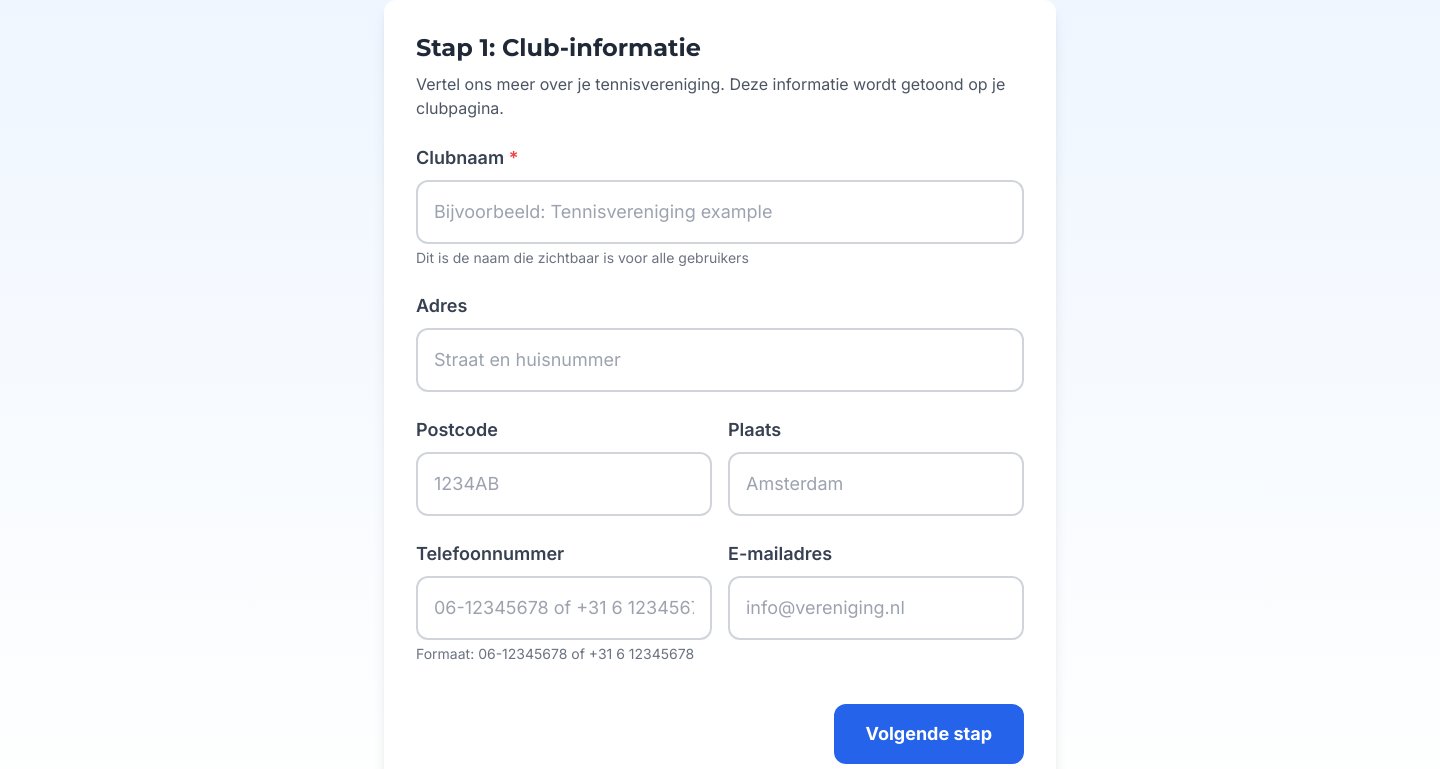
Scenario: ClubStep › Zod validation › should show error for invalid postal code format
Type "123AB" into the field labelled "Postcode".
click(564, 484); type("123AB")  # box [416,452,712,516]
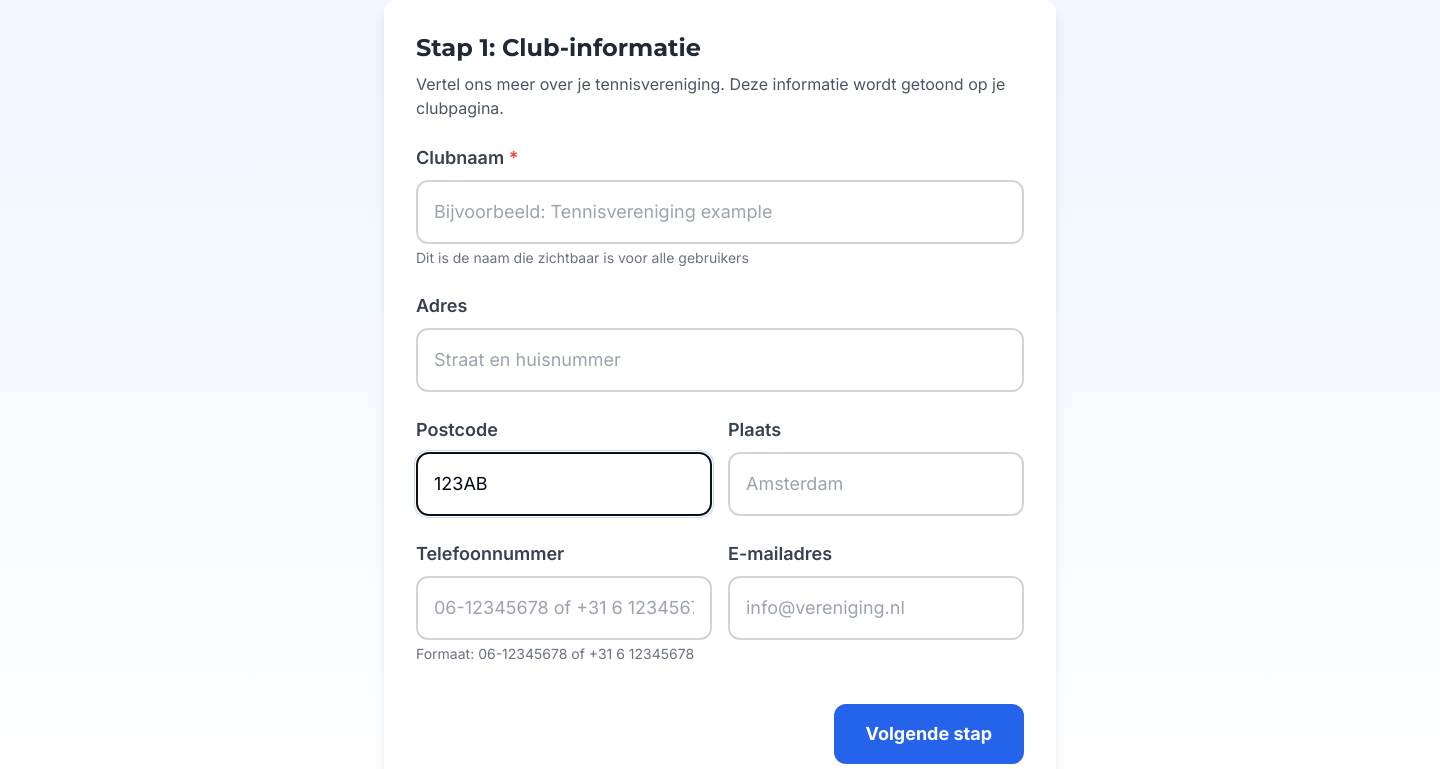
Press Tab
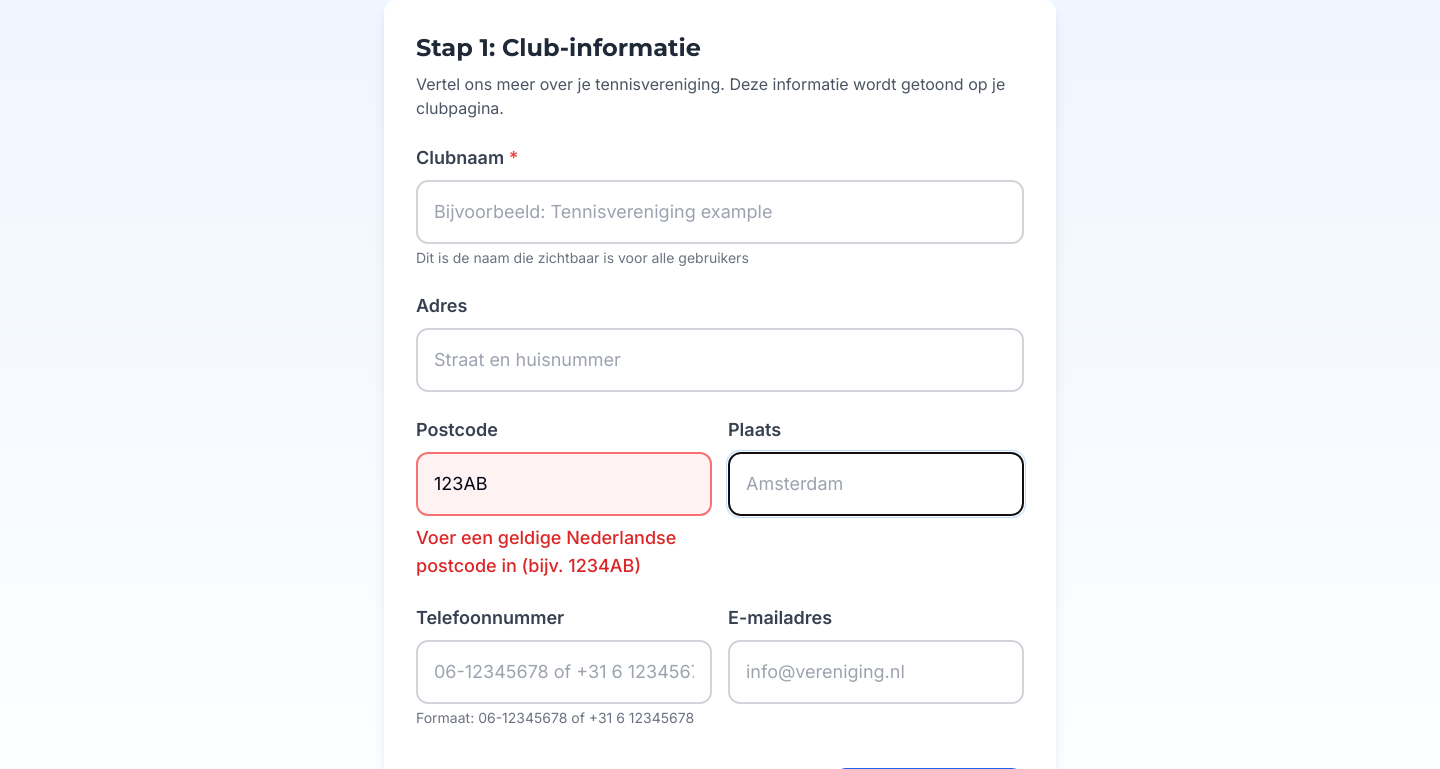
Check: the text "Voer een geldige Nederlandse postcode in (bijv. 1234AB)" is shown, box [416,524,712,580]
